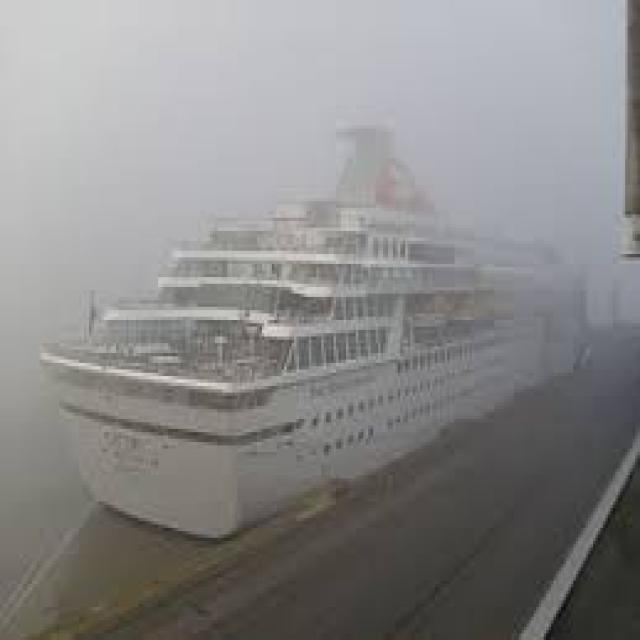passenger ship: (42, 119, 584, 523)
